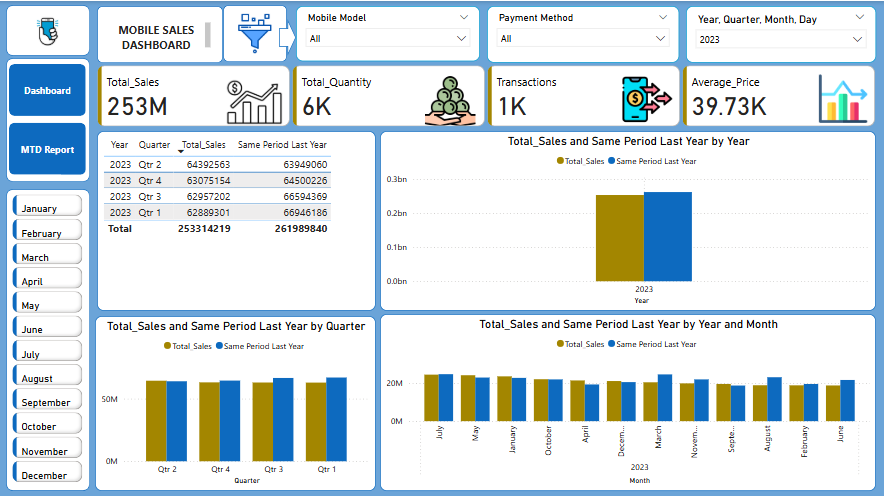

The dashboard page shown, as its layout file describes it:
{"tool":"powerbi","page":{"name":"Same Period Last Year","canvas":[1280,720],"ordinal":2},"visuals":[{"type":"shape","box":[11.6,5.8,121.4,73.7],"z":0},{"type":"image","box":[31.8,13,79.5,62.2],"z":1000},{"type":"shape","box":[11.6,82.4,121.4,179.3],"z":2000},{"type":"shape","box":[11.6,271.8,121.4,436.6],"z":3000},{"type":"cardVisual","fields":{"Data":["Mobile Sales Data.Total_Sales","Mobile Sales Data.Total_Quantity","Mobile Sales Data.Transactions","Mobile Sales Data.Average_Price"]},"box":[138.8,88.2,1136.4,98.3],"z":4000},{"type":"slicer","fields":{"Values":["Mobile Sales Data.Mobile Model"]},"box":[430.8,7.2,266,79.5],"z":5000},{"type":"slicer","fields":{"Values":["Mobile Sales Data.Payment Method"]},"box":[707,7.2,277.6,82.4],"z":6000},{"type":"slicer","fields":{"Values":["Custom_Calender.Date.Variation.Date Hierarchy.Year","Custom_Calender.Date.Variation.Date Hierarchy.Quarter","Custom_Calender.Date.Variation.Date Hierarchy.Month","Custom_Calender.Date.Variation.Date Hierarchy.Day"]},"box":[994.7,7.2,274.7,82.4],"z":7000},{"type":"shape","box":[325.3,5.8,92.5,82.4],"z":8000},{"type":"image","box":[336.9,11.6,69.4,70.8],"z":9000},{"type":"shape","box":[406.3,26,24.6,53.5],"z":10000},{"type":"shape","box":[143.1,7.2,182.2,82.4],"z":11000},{"type":"textbox","box":[153.3,26,159,49.2],"z":12000},{"type":"advancedSlicerVisual","box":[15.9,274.7,111.3,436.6],"z":13000},{"type":"advancedSlicerVisual","fields":{"Values":["Custom_Calender.Date.Variation.Date Hierarchy.Month"]},"box":[15.9,274.7,111.3,436.6],"z":14000},{"type":"tableEx","fields":{"Values":["Custom_Calender.Date.Variation.Date Hierarchy.Year","Custom_Calender.Date.Variation.Date Hierarchy.Quarter","Mobile Sales Data.Total_Sales","Mobile Sales Data.Same Period Last Year"]},"box":[143.1,188,403.4,260.2],"z":15000},{"type":"clusteredColumnChart","fields":{"Category":["Custom_Calender.Date.Variation.Date Hierarchy.Year","Custom_Calender.Date.Variation.Date Hierarchy.Quarter"],"Y":["Mobile Sales Data.Total_Sales","Mobile Sales Data.Same Period Last Year"]},"box":[552.3,188,717.1,260.2],"z":16000},{"type":"clusteredColumnChart","fields":{"Y":["Mobile Sales Data.Total_Sales","Mobile Sales Data.Same Period Last Year"],"Category":["Custom_Calender.Date.Variation.Date Hierarchy.Year","Custom_Calender.Date.Variation.Date Hierarchy.Month","Custom_Calender.Date.Variation.Date Hierarchy.Day"]},"box":[552.3,452.5,717.1,255.9],"z":17000},{"type":"clusteredColumnChart","fields":{"Category":["Custom_Calender.Date.Variation.Date Hierarchy.Year","Custom_Calender.Date.Variation.Date Hierarchy.Quarter"],"Y":["Mobile Sales Data.Total_Sales","Mobile Sales Data.Same Period Last Year"]},"box":[140.2,455.4,406.3,253],"z":18000},{"type":"pageNavigator","box":[15.9,91.1,111.3,160.5],"z":19000}]}

Visuals, with their boxes in screenshot pixels (x1, y1, x2, y2), scaled from the page's 1280x720 canvas onto the 884x496 screenshot:
shape: <box>8,4,92,55</box>
image: <box>22,9,77,52</box>
shape: <box>8,57,92,180</box>
shape: <box>8,187,92,488</box>
cardVisual - Mobile Sales Data.Total_Sales x Mobile Sales Data.Total_Quantity: <box>96,61,881,128</box>
slicer - Mobile Sales Data.Mobile Model: <box>298,5,481,60</box>
slicer - Mobile Sales Data.Payment Method: <box>488,5,680,62</box>
slicer - Custom_Calender.Date.Variation.Date Hierarchy.Year x Custom_Calender.Date.Variation.Date Hierarchy.Quarter: <box>687,5,877,62</box>
shape: <box>225,4,289,61</box>
image: <box>233,8,281,57</box>
shape: <box>281,18,298,55</box>
shape: <box>99,5,225,62</box>
textbox: <box>106,18,216,52</box>
advancedSlicerVisual: <box>11,189,88,490</box>
advancedSlicerVisual - Custom_Calender.Date.Variation.Date Hierarchy.Month: <box>11,189,88,490</box>
tableEx - Custom_Calender.Date.Variation.Date Hierarchy.Year x Custom_Calender.Date.Variation.Date Hierarchy.Quarter: <box>99,130,377,309</box>
clusteredColumnChart - Custom_Calender.Date.Variation.Date Hierarchy.Year x Custom_Calender.Date.Variation.Date Hierarchy.Quarter: <box>381,130,877,309</box>
clusteredColumnChart - Mobile Sales Data.Total_Sales x Mobile Sales Data.Same Period Last Year: <box>381,312,877,488</box>
clusteredColumnChart - Custom_Calender.Date.Variation.Date Hierarchy.Year x Custom_Calender.Date.Variation.Date Hierarchy.Quarter: <box>97,314,377,488</box>
pageNavigator: <box>11,63,88,173</box>
